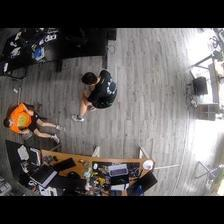fall: (70, 69, 117, 123)
normal: (4, 102, 63, 142)
